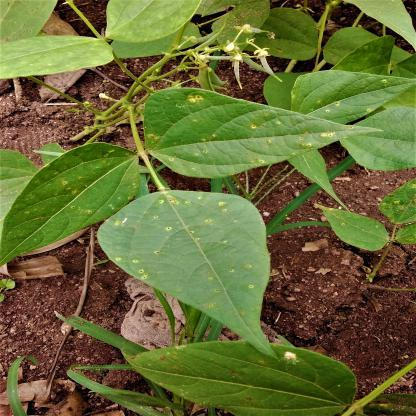Beans_Rust: (99, 191, 273, 360), (146, 90, 368, 178), (3, 146, 141, 272), (294, 69, 393, 124)
